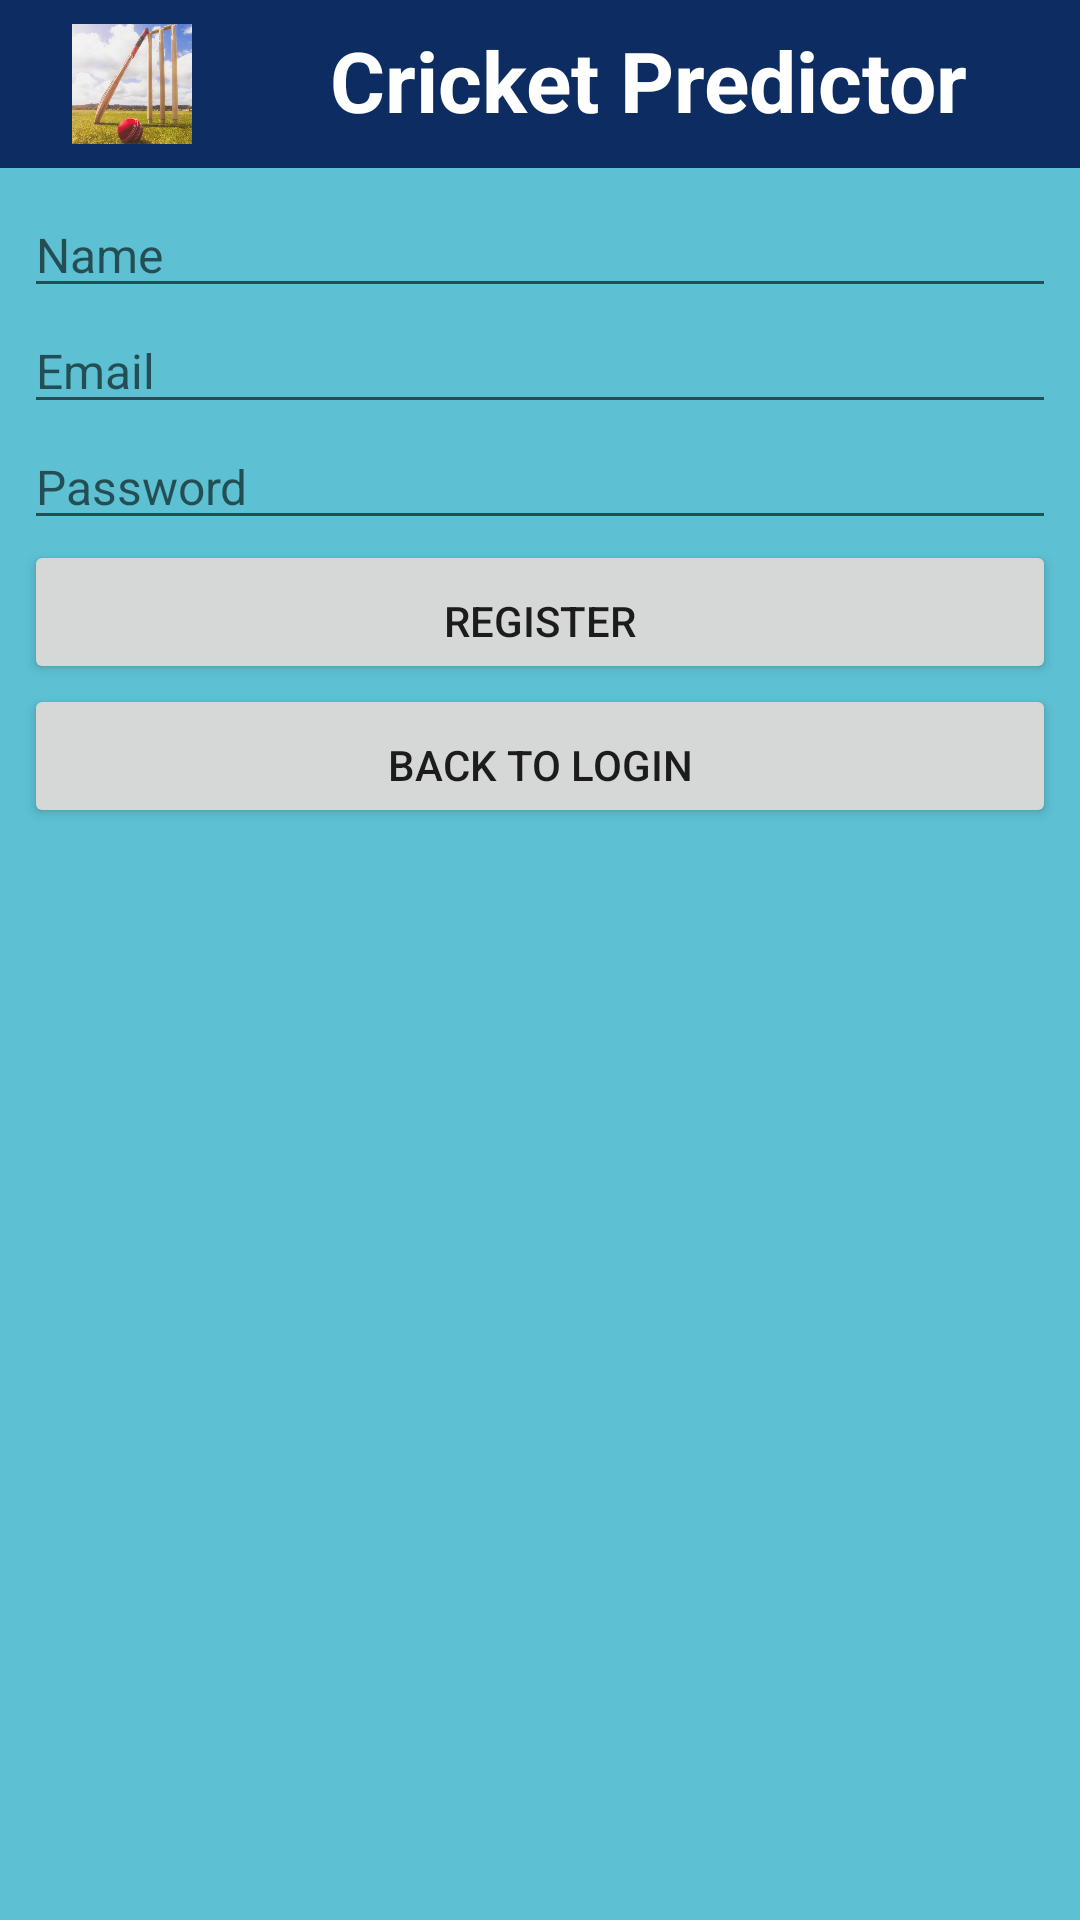

Named icons in this screenshot (1080 x 1920) and their bounding boxes, {"left": x1, "top": y1, "right": x2, "bottom": y2}:
cricpredict: {"left": 72, "top": 24, "right": 192, "bottom": 144}
